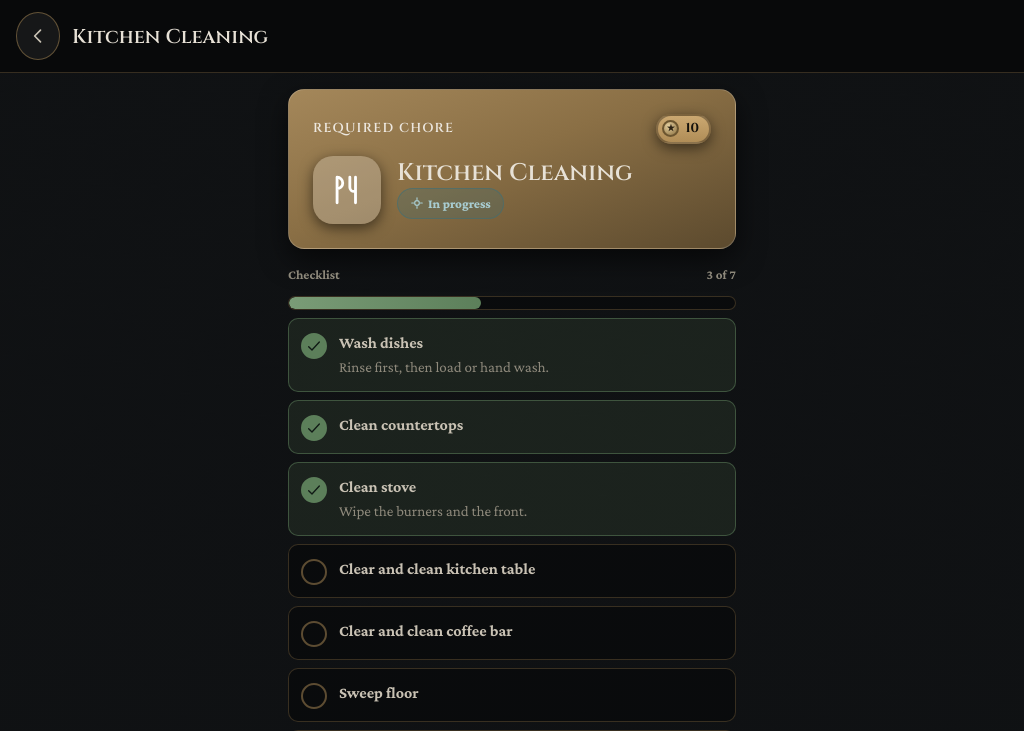
it: chore completion flow › keeps the camera locked until every subtask is checked
Expected: the button "open camera" is not shown
Click the button "Clear and clean kitchen table": (512, 571) [288,544,736,598]
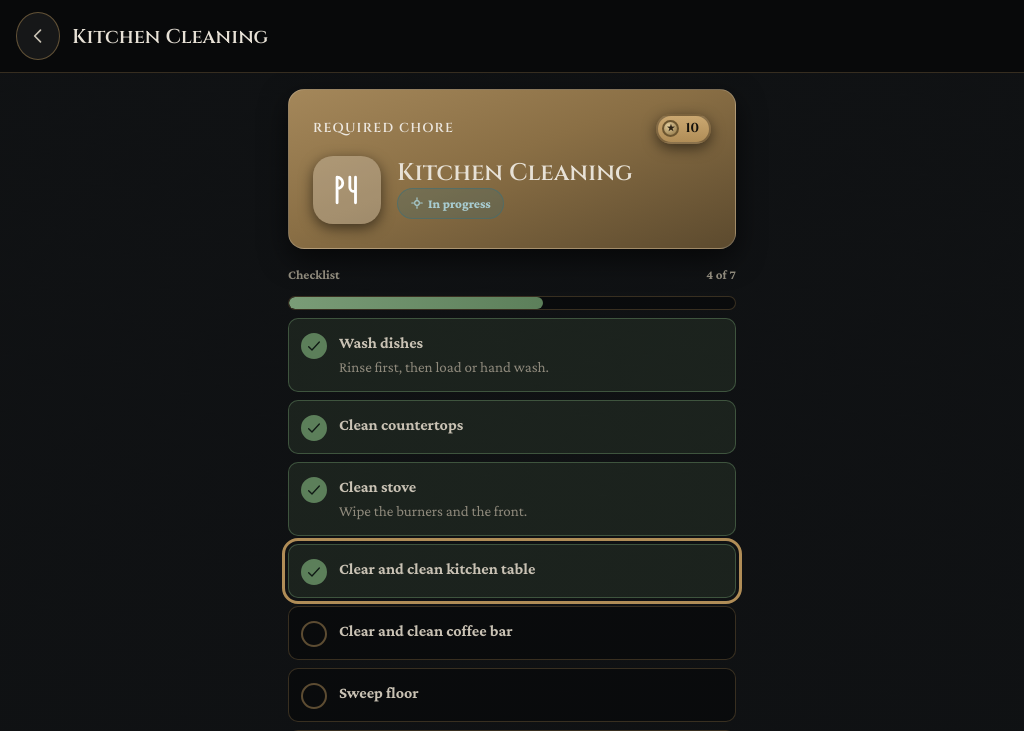
Click the button "Clear and clean coffee bar": (512, 633) [288,606,736,660]
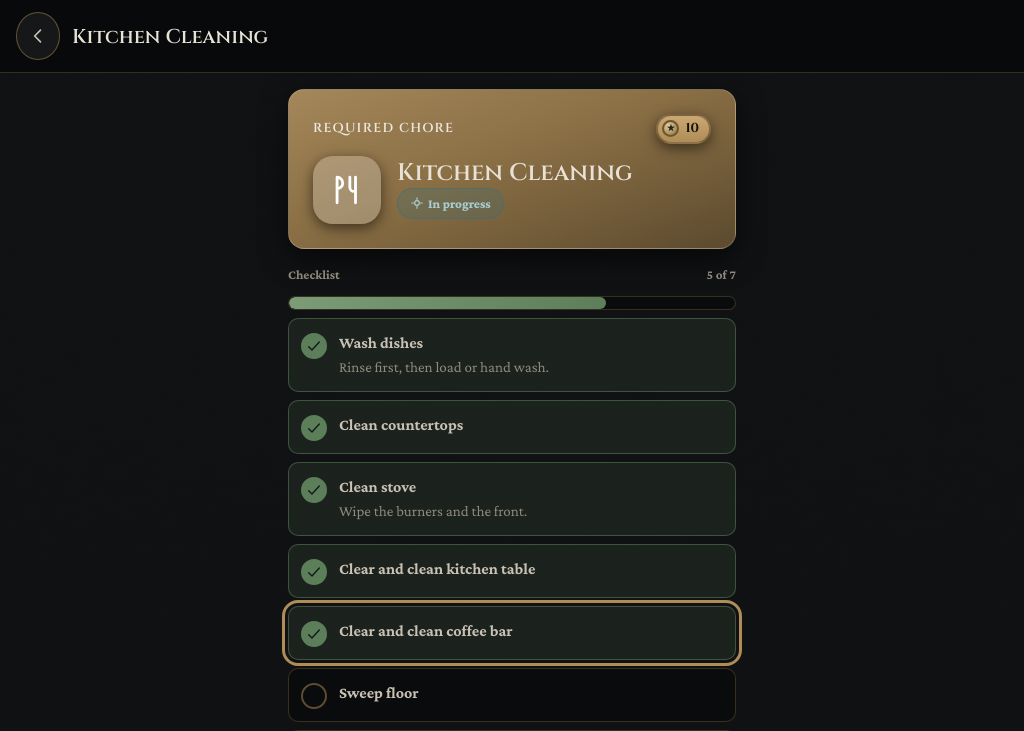
Click the button "Sweep floor": (379, 692) [288,668,736,722]
(page scrolled)
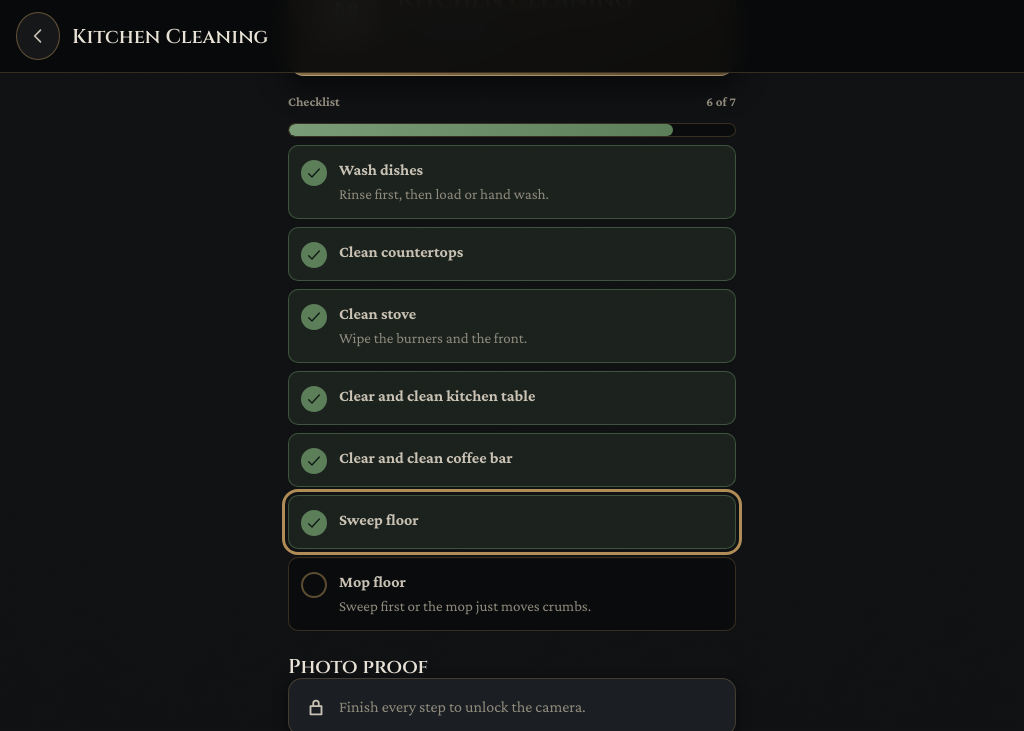
Click the button "Mop floor Sweep first or the mop just moves crumbs.": (372, 582) [288,557,736,631]
(page scrolled)
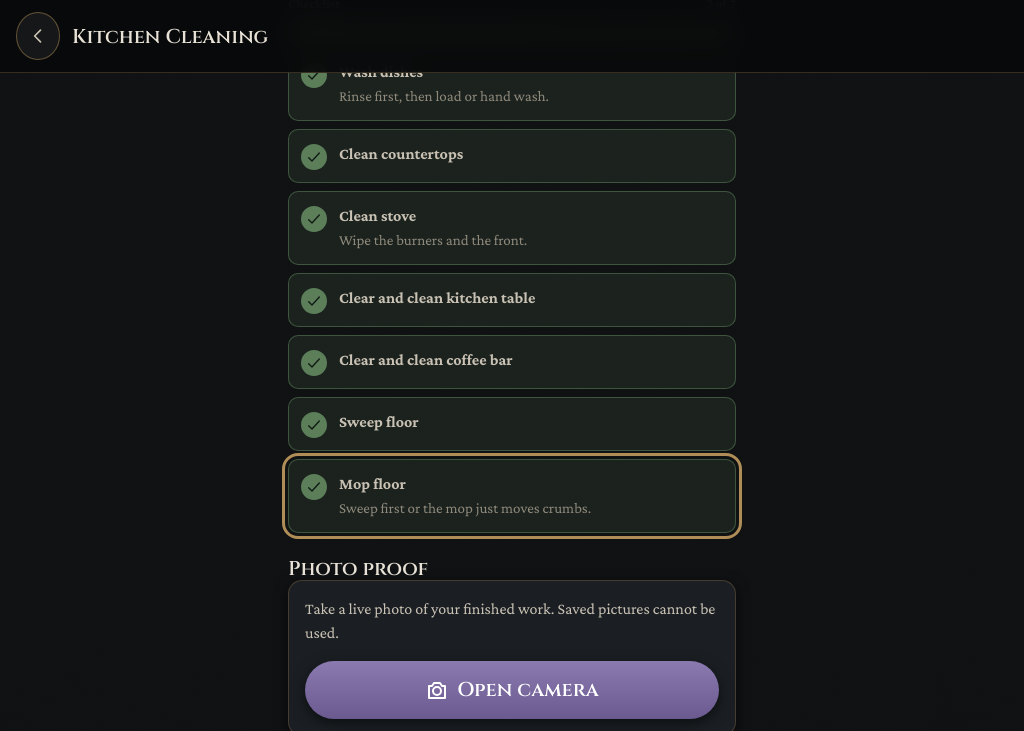
Expected: the button "Open camera" is shown, [305,661,719,719]
